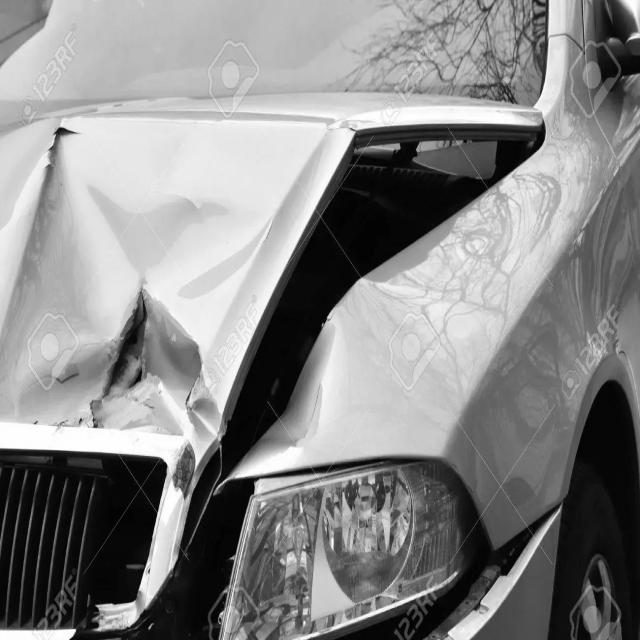crush: (0, 91, 640, 640)
